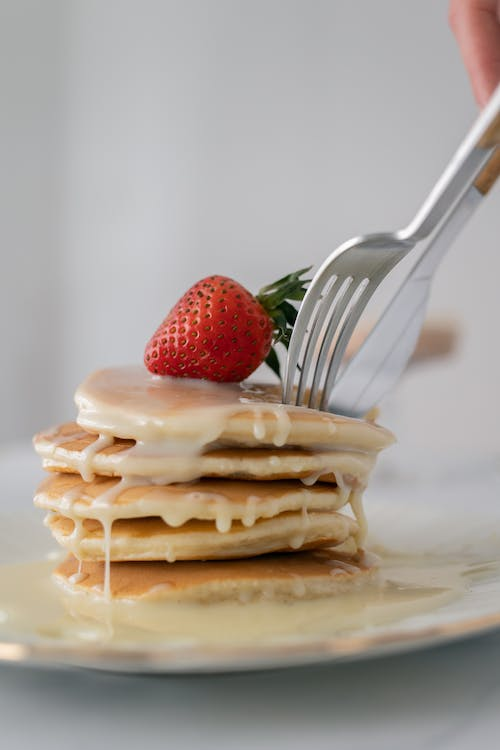knife: (317, 140, 500, 420)
